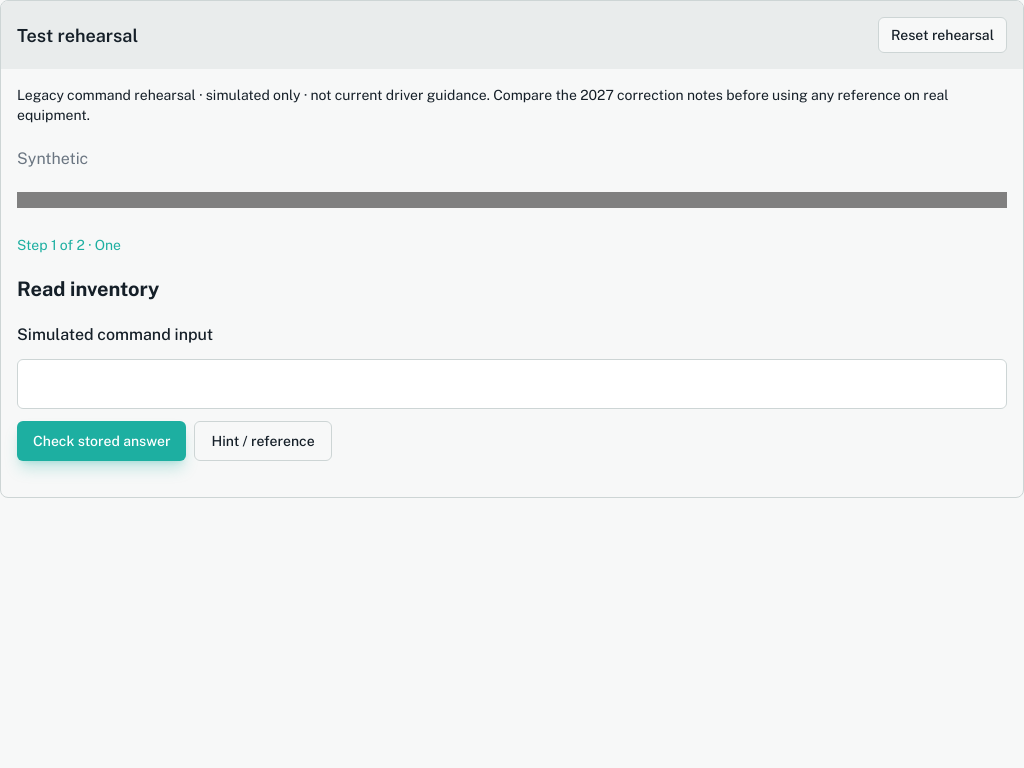
Test case: actual learner flows › cannot advance twice from repeated accepted legacy commands and requires explicit continue
The width and height of the screenshot is (1024, 768).
Later steps or results of the test are not shown.
Type "show evidence" into the field labelled "Simulated command input".
click(512, 384); type("show evidence")  # box top-left (17, 359), bottom-right (1007, 409)
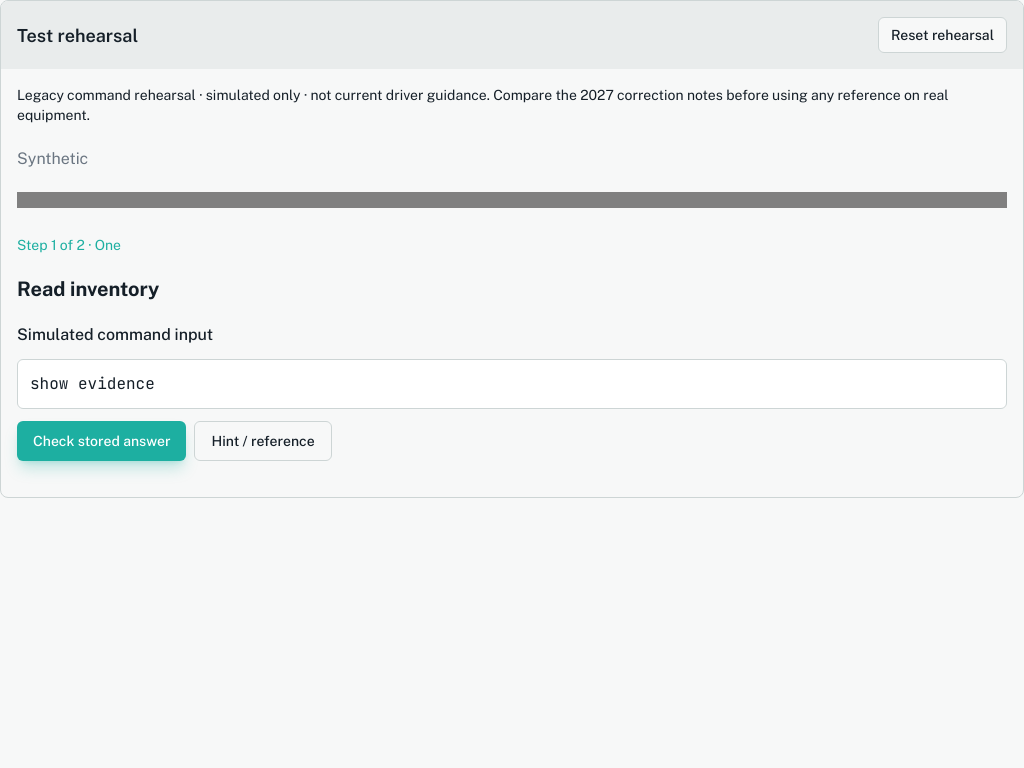
Click the button "Check stored answer".
click(102, 441)  # box top-left (17, 421), bottom-right (186, 461)
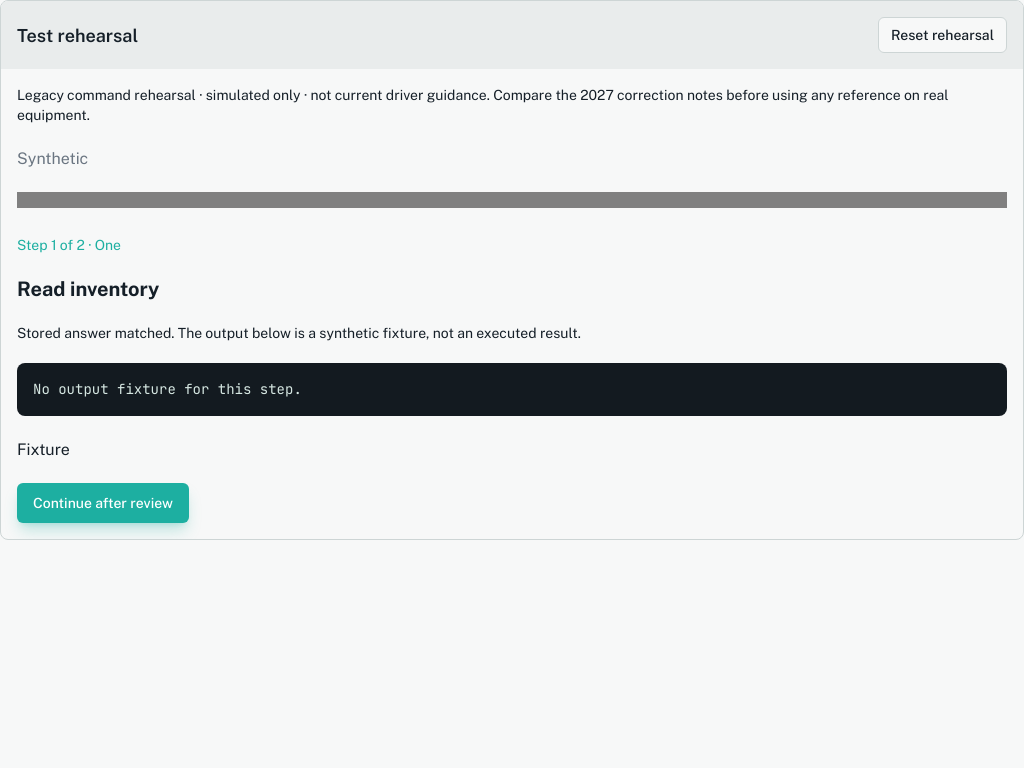
Check: the text "Stored answer matched" is shown once, box top-left (17, 325), bottom-right (581, 341)
